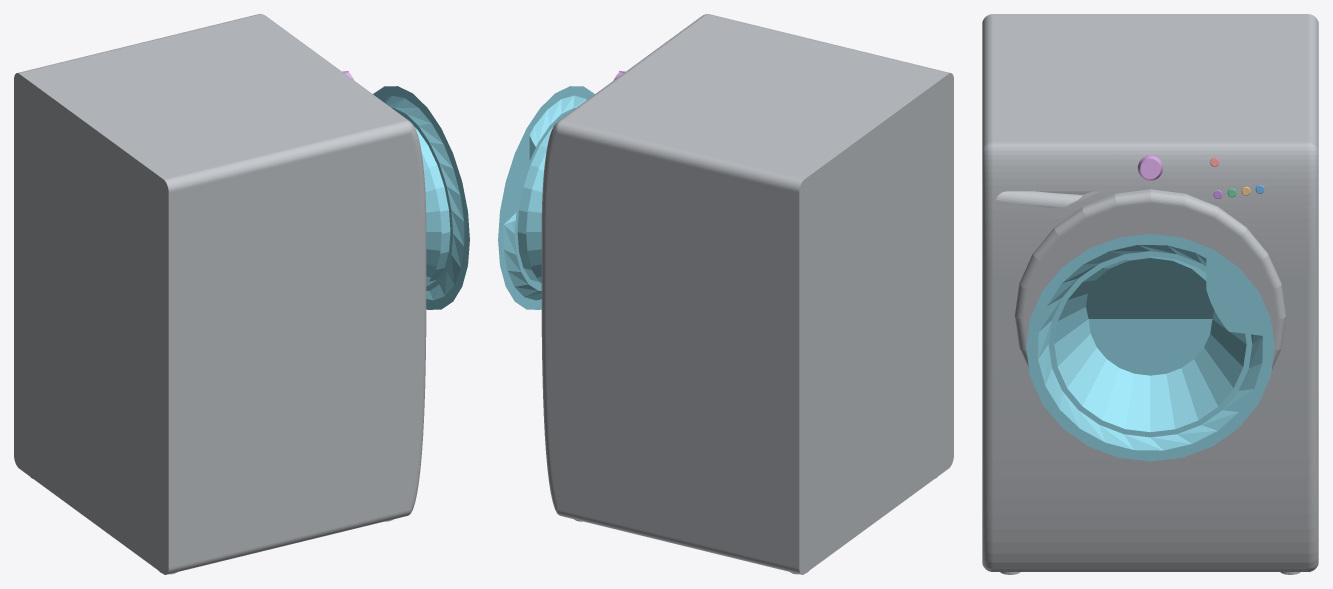
The model's file is parts.glb.
3 renders of one model, left to right at view 1: azimuth 30°, elevation 25°; view 2: azimuth 150°, elevation 25°; view 3: azimuth 270°, elevation 25°, orthographic. The views are drawn at different scales.
Visible parts, largest first — view 1: visual_0_0, visual_8_0; view 2: visual_0_0, visual_8_0; view 3: visual_0_0, visual_8_0, visual_9_0.
Part boxes in pixels (x1=…): visual_0_0: x1=14, y1=14, x2=426, y2=574; visual_8_0: x1=373, y1=86, x2=469, y2=309; visual_0_0: x1=541, y1=14, x2=953, y2=574; visual_8_0: x1=498, y1=86, x2=594, y2=309; visual_0_0: x1=982, y1=14, x2=1318, y2=574; visual_8_0: x1=1026, y1=234, x2=1274, y2=461; visual_9_0: x1=1137, y1=155, x2=1163, y2=180.
Bounding box in the file's own units: 1.24 × 1.47 × 1.03.
